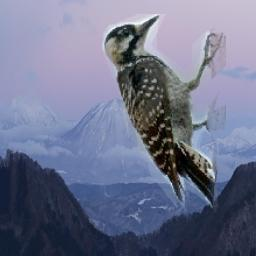Woodpecker: (101, 14, 226, 212)
